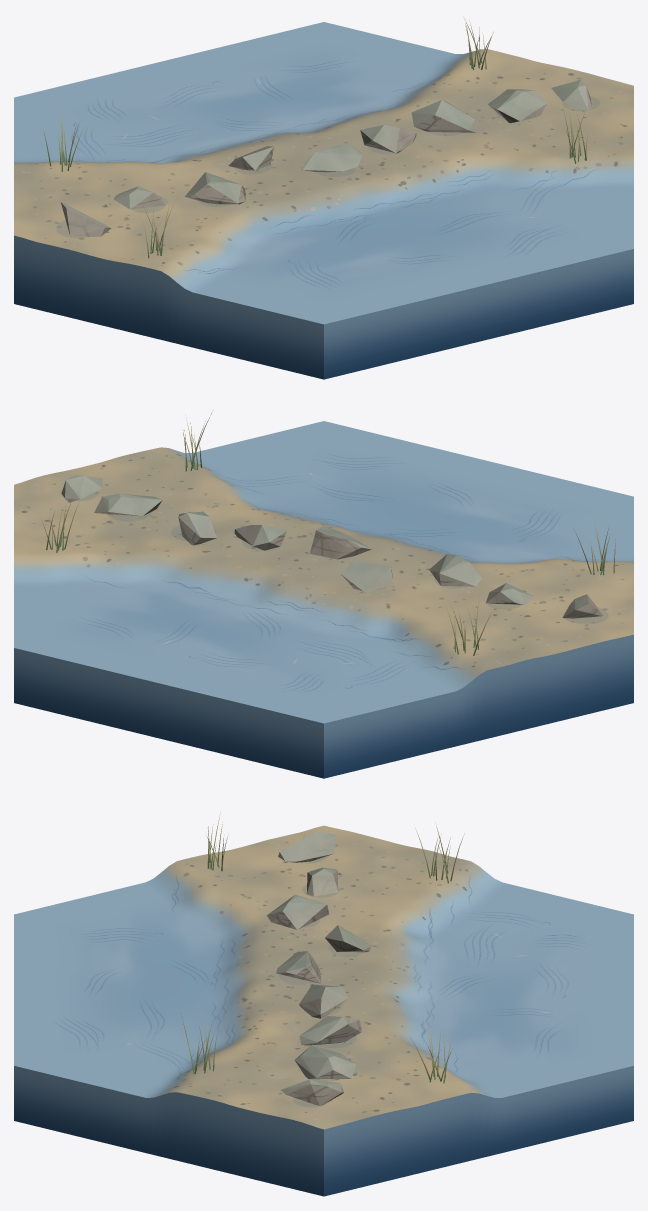
Rendered from Hex_Ford.glb.
The picture shows the model from 3 angles, top to bottom: view 1: azimuth 30°, elevation 25°; view 2: azimuth 150°, elevation 25°; view 3: azimuth 270°, elevation 25°; orthographic projection.
Visible parts, largest first — view 1: Hex_Ford; view 2: Hex_Ford; view 3: Hex_Ford.
Boxes of the visible parts, x1,y1,x2,y2 form: Hex_Ford: (14,19,633,379); Hex_Ford: (14,413,633,778); Hex_Ford: (14,812,633,1196).
Size of the model in its own units: 8 by 1.53 by 6.93.
Materials: 2 (2 with a texture image).
